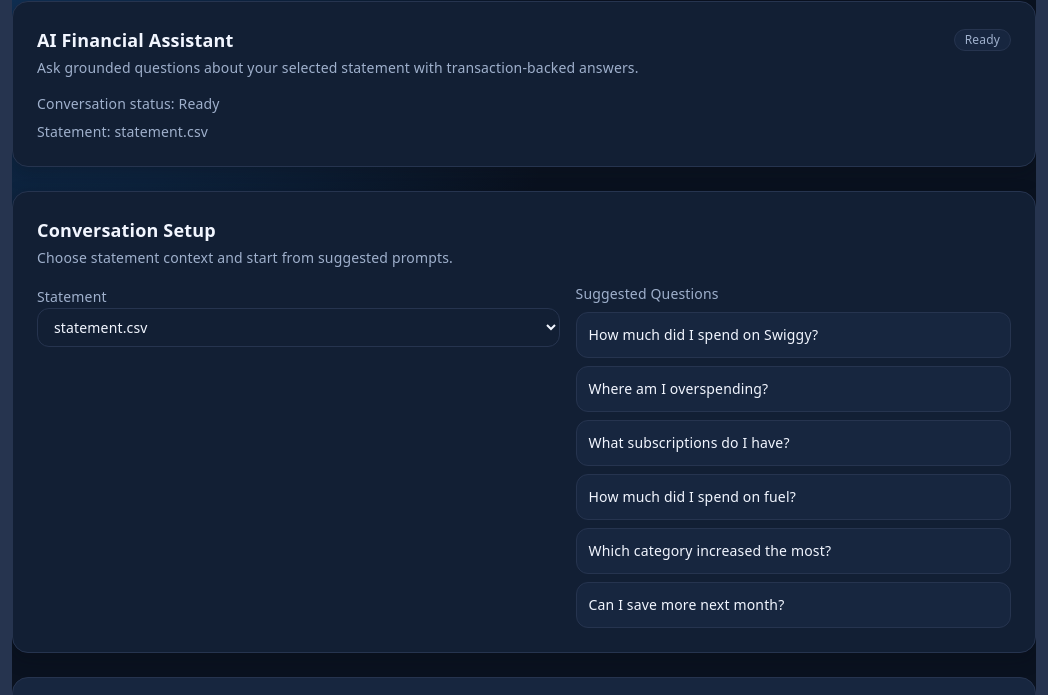
Scenario: FinancialAssistantPage › suggested question populates input and sends chat message
The image size is (1048, 695).
(page scrolled)
Click the button "How much did I spend on fuel?".
click(793, 497)  # box [576, 474, 1011, 520]
(page scrolled)
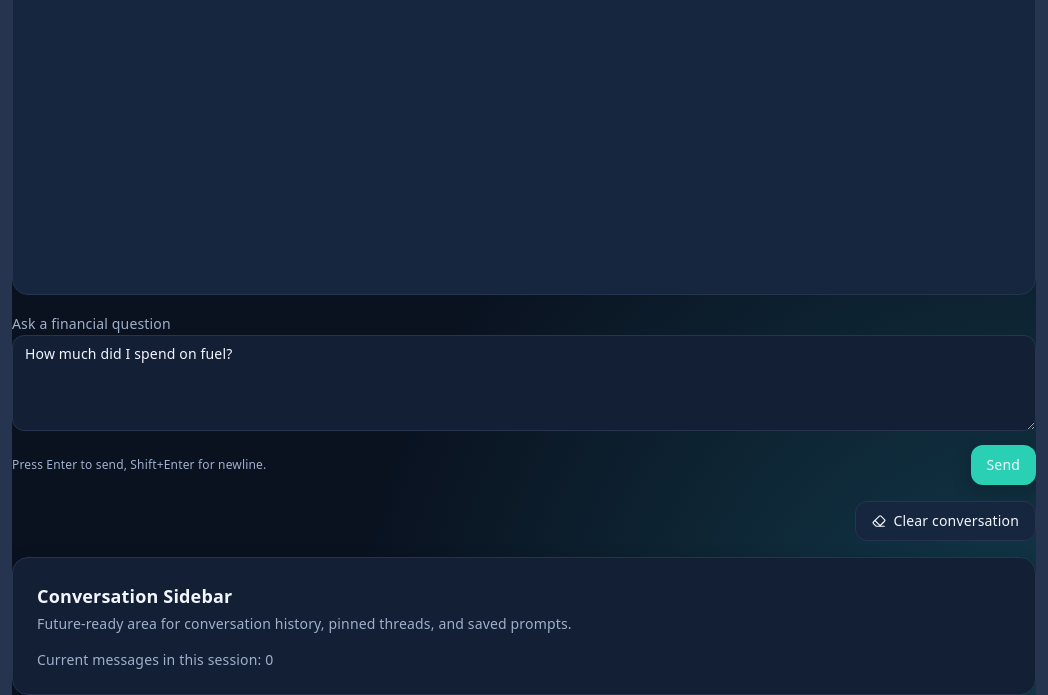
Result: the text box named "Assistant message input" holds "How much did I spend on fuel?"
Press Enter in the text box named "Assistant message input", box [12, 335, 1036, 431]
(page scrolled)
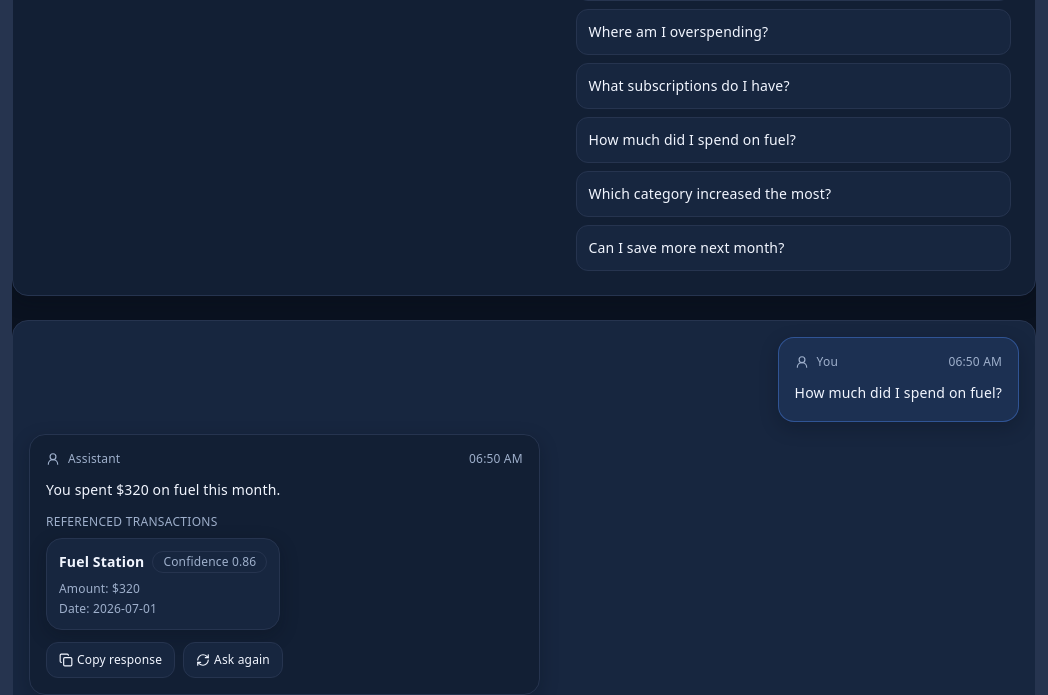
Result: the text "You spent $320 on fuel this month." is shown at [46, 480, 280, 499]
Result: the element labelled "Referenced transactions" is shown at [46, 512, 280, 630]
Result: the text "Fuel Station" is shown at [59, 552, 144, 572]
